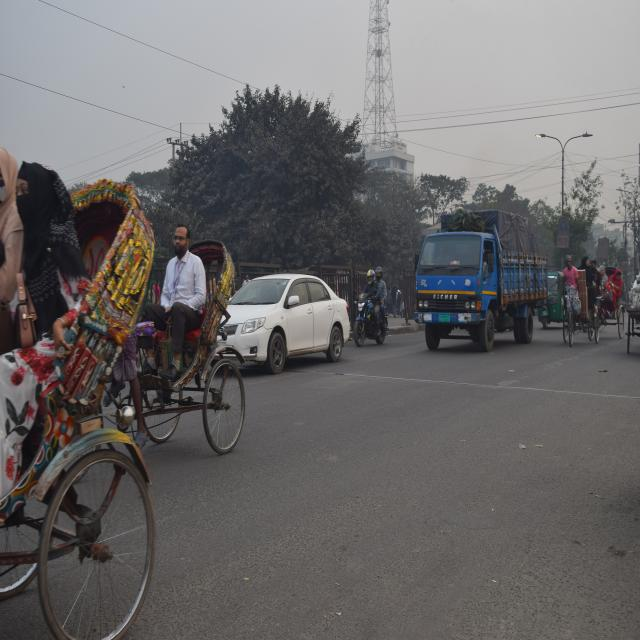car: (215, 272, 354, 376)
motorbike: (349, 284, 390, 352)
truck: (409, 203, 553, 358)
